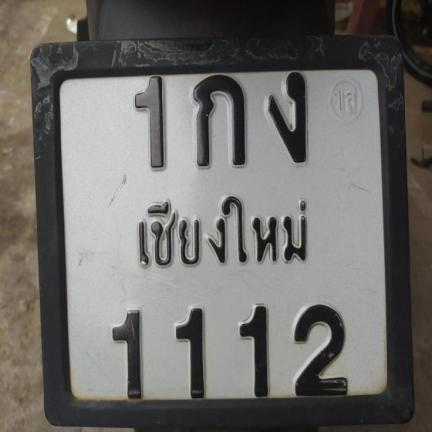1: (162, 297, 216, 401), (121, 74, 177, 174), (220, 298, 271, 397), (104, 298, 152, 401)
2: (284, 298, 356, 394)
A01: (182, 70, 250, 168)
A07: (258, 72, 314, 168)
CMI: (121, 185, 319, 272)
